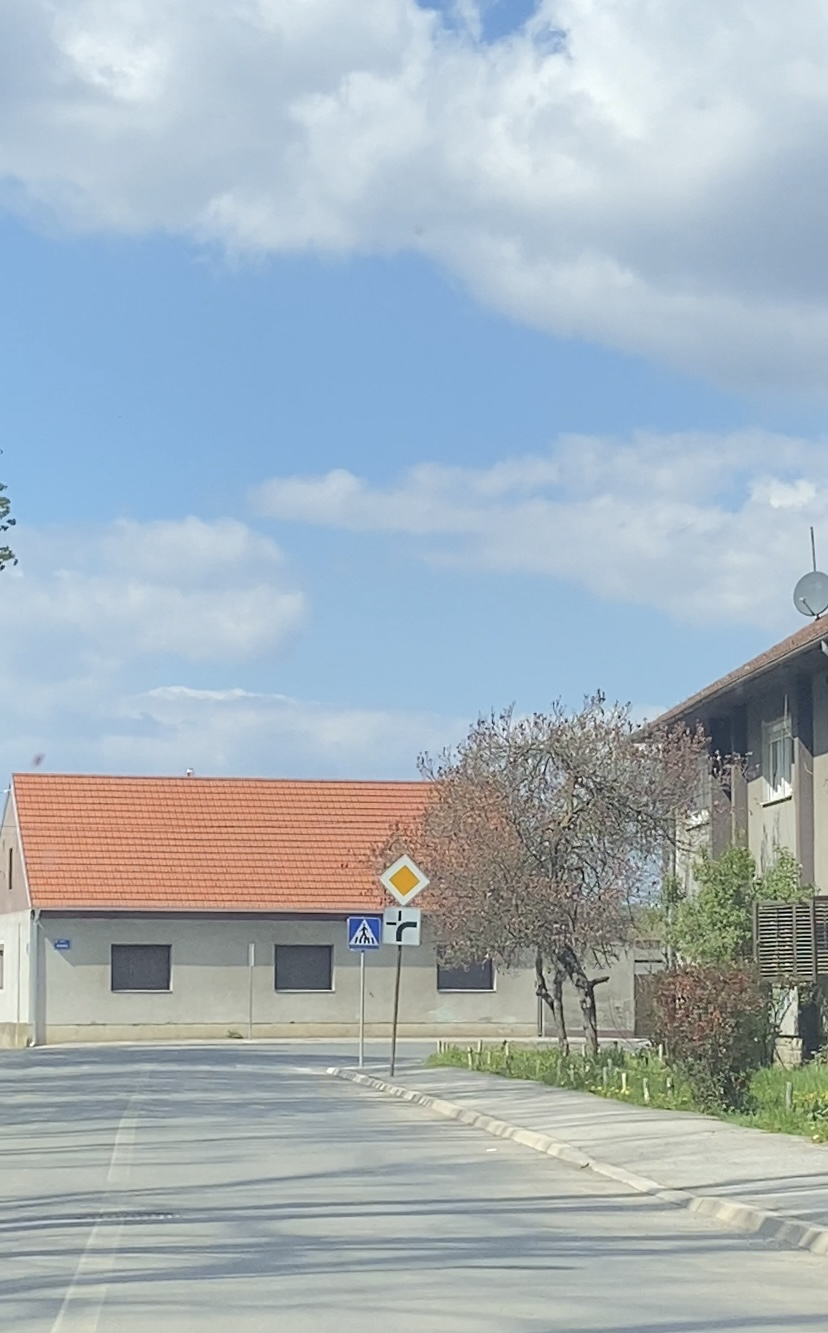Cesta s prednošću prolaska: (379, 854, 431, 907)
Pješački prijelaz: (347, 917, 382, 950)
